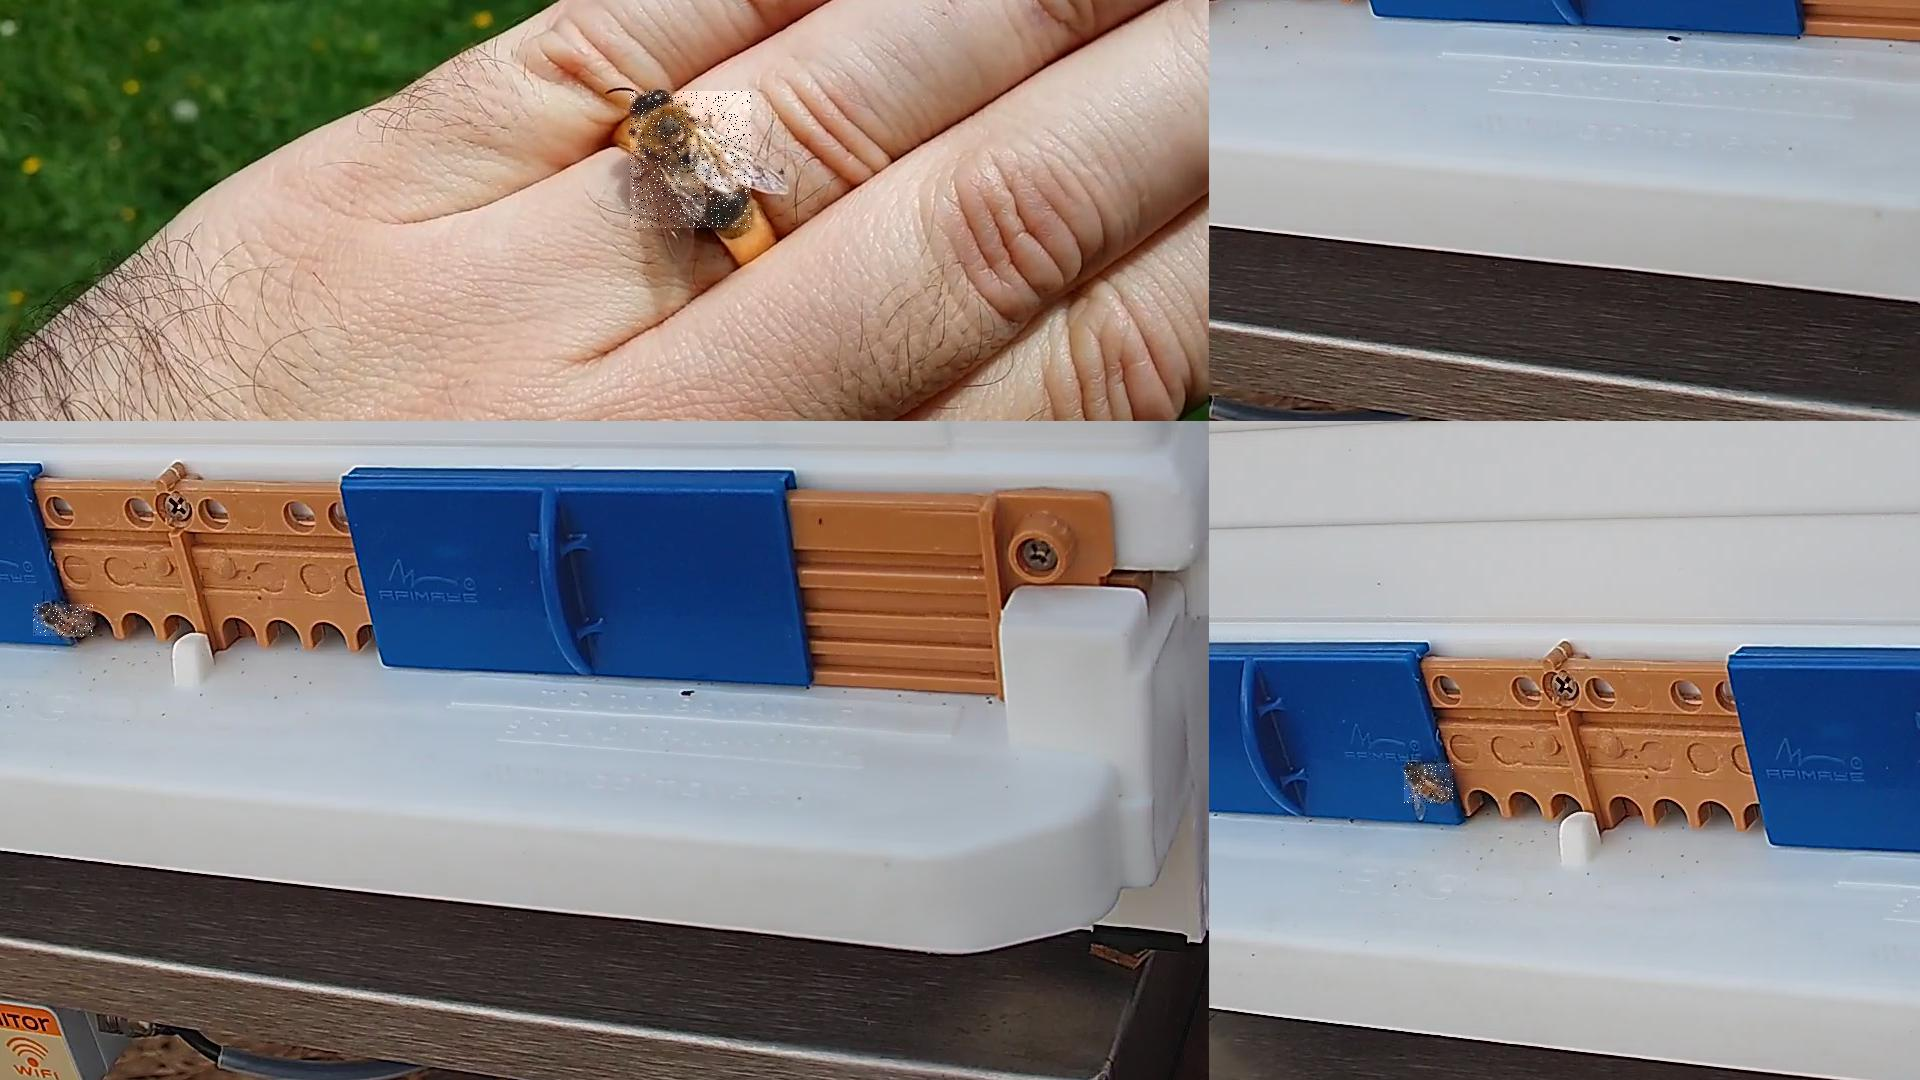bee: (1404, 763, 1454, 804), (33, 604, 94, 637)
drone: (630, 91, 752, 229)
